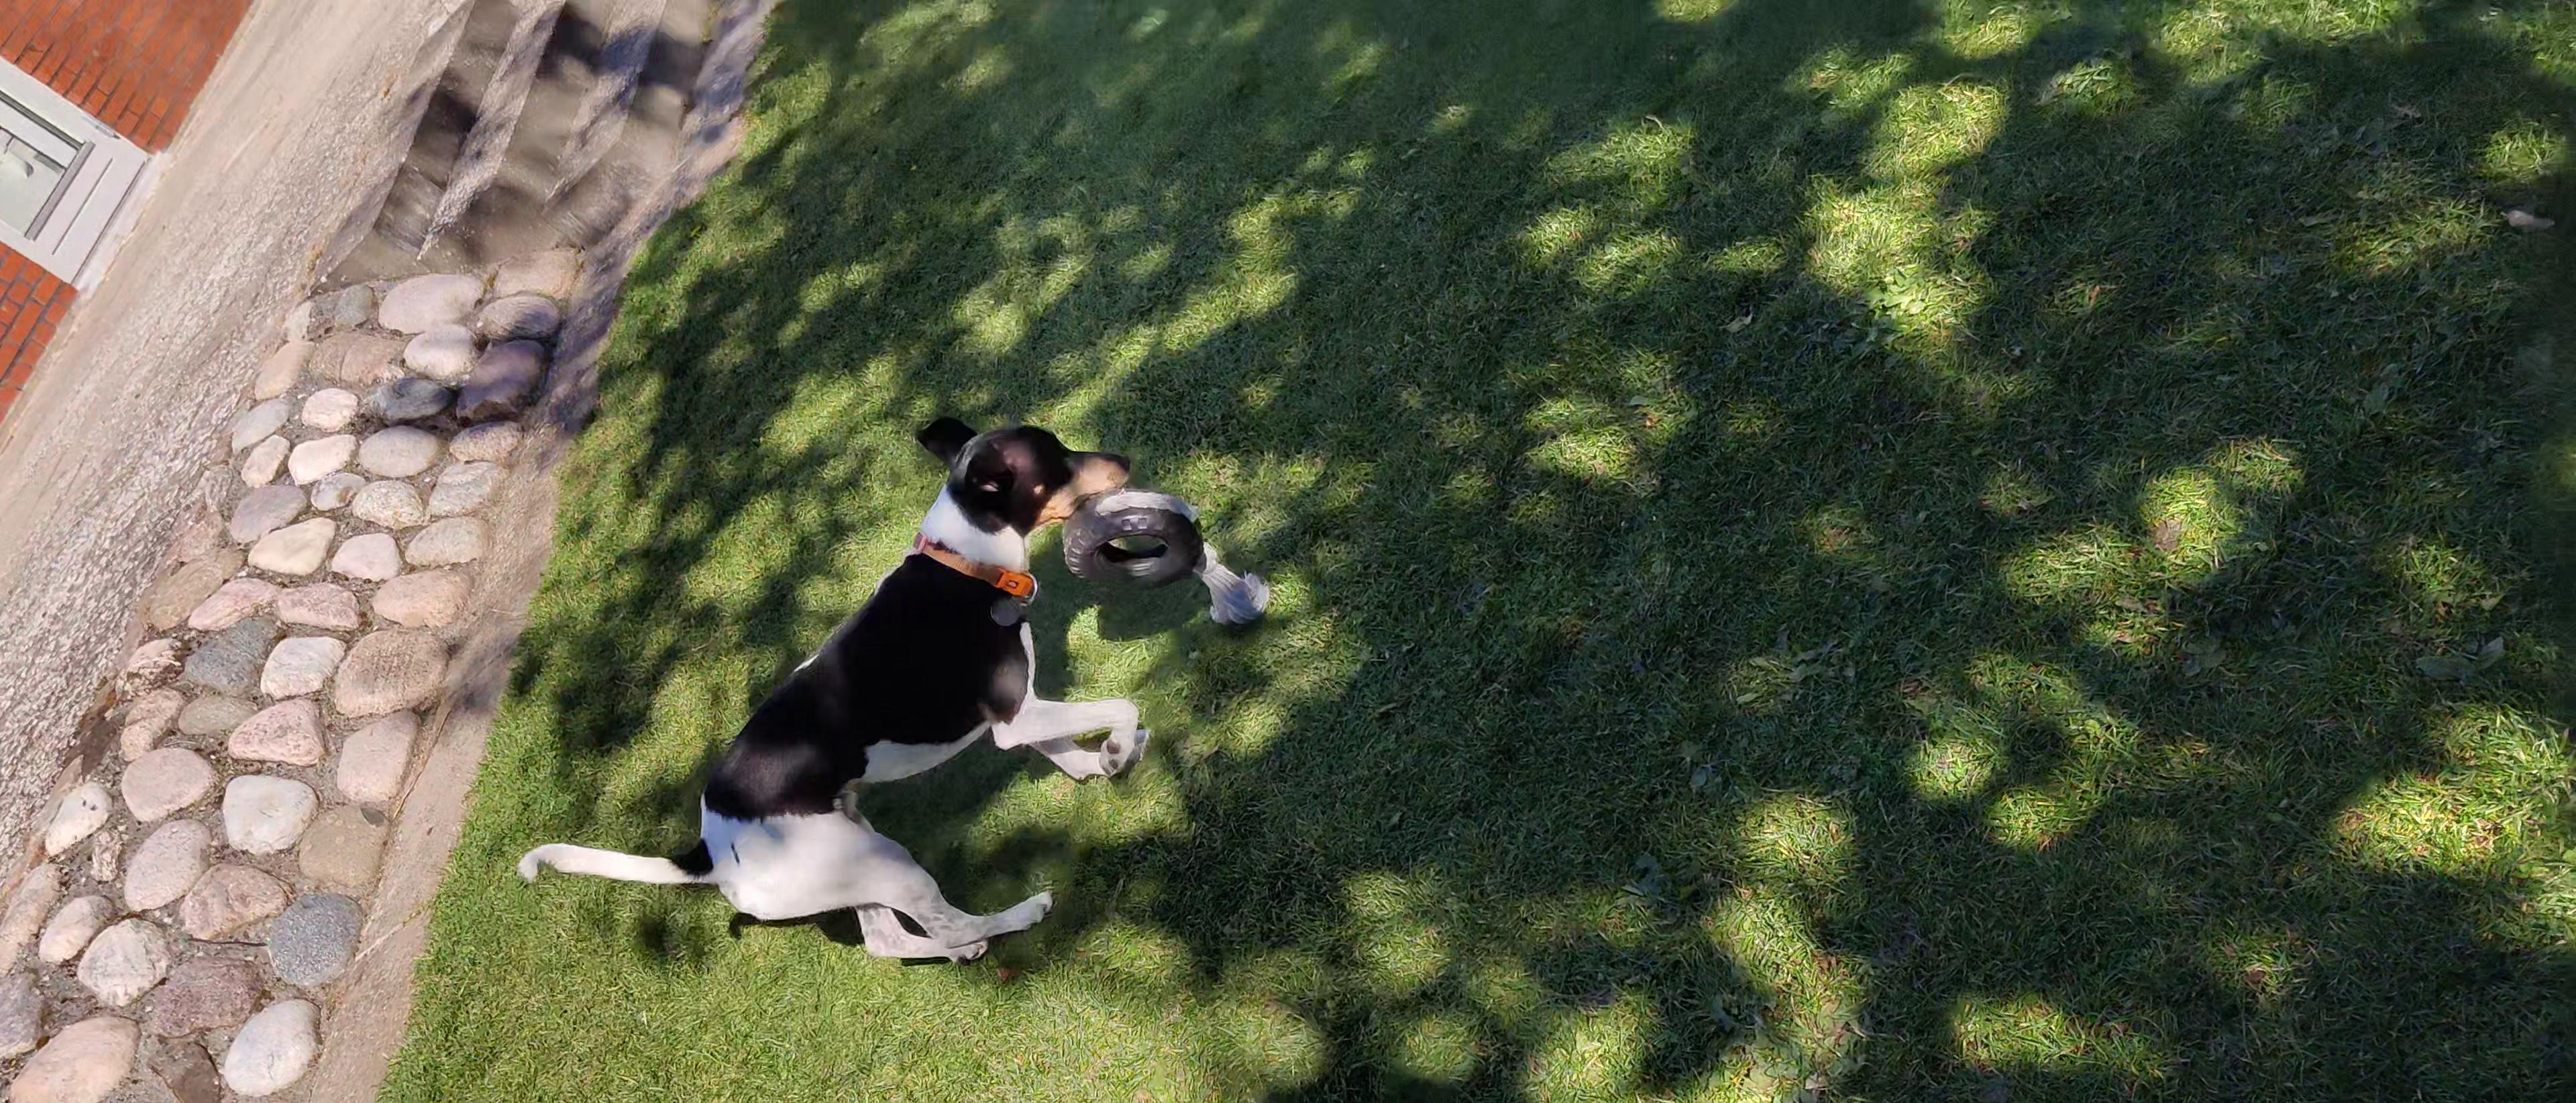Dog: (499, 413, 1145, 971)
